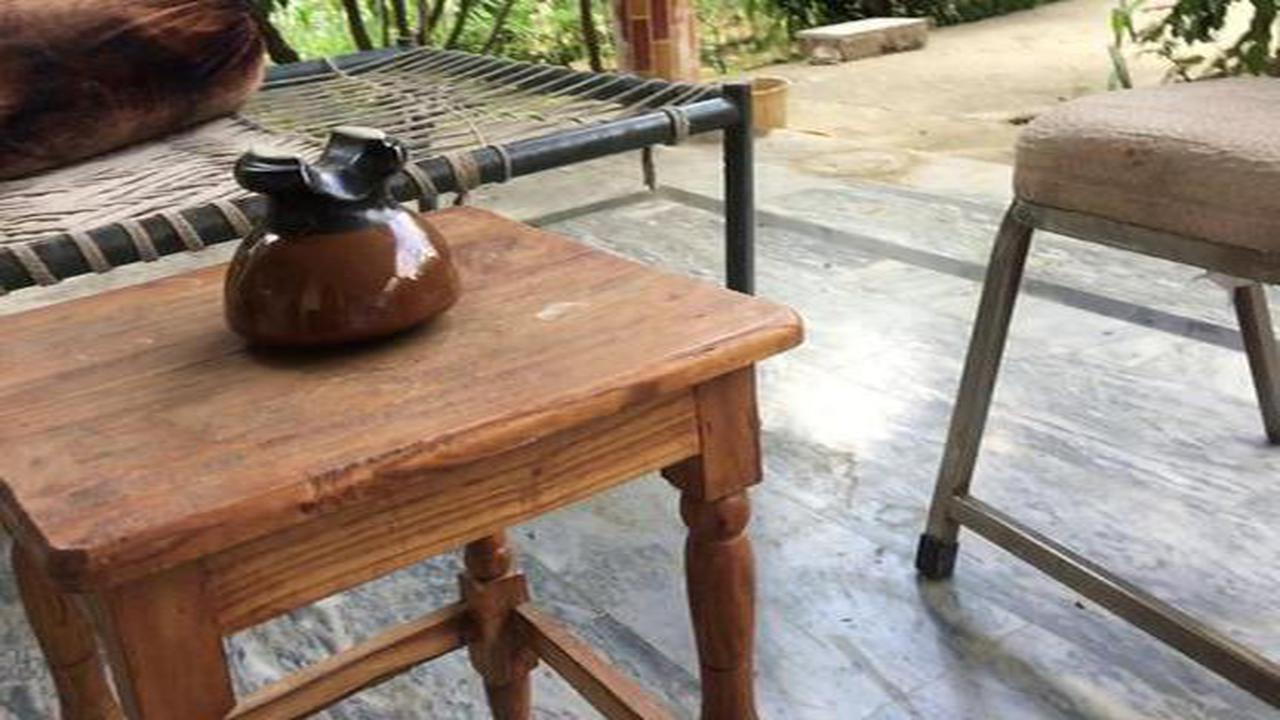insulator_pin: (216, 118, 471, 369)
